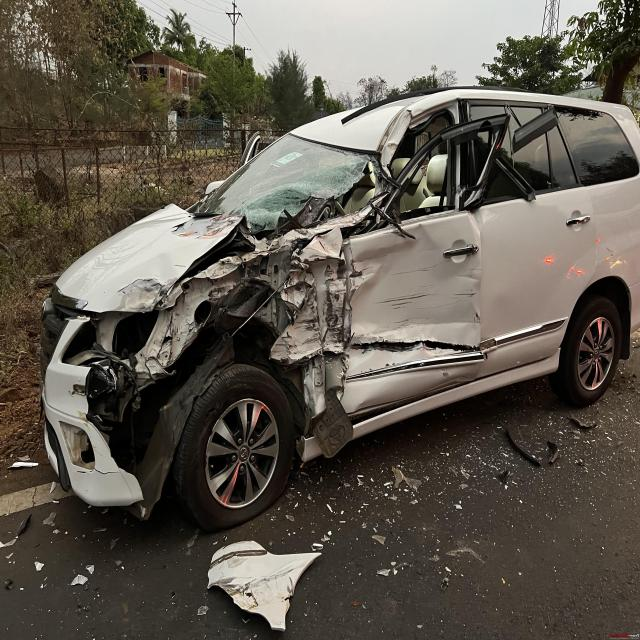accident: (41, 87, 640, 530)
